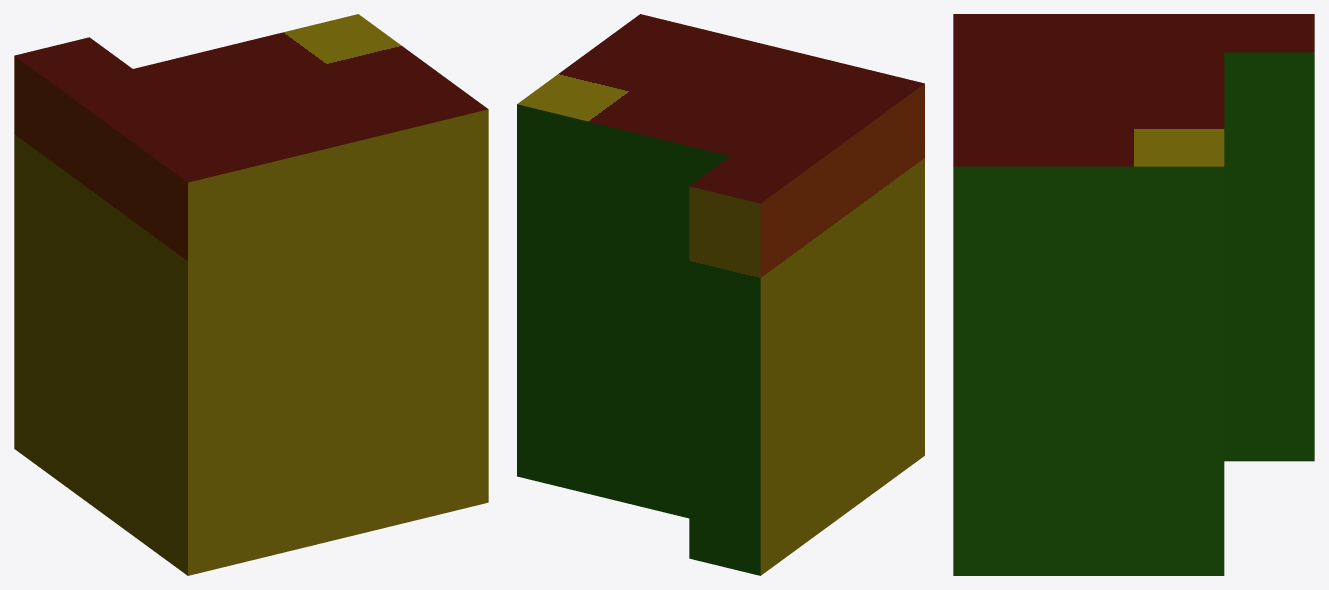
File: block_28.fbx
3 views of the same model, side by side, from view 1: azimuth 30°, elevation 25°; view 2: azimuth 150°, elevation 25°; view 3: azimuth 270°, elevation 25° (orthographic). The views are drawn at different scales.
Parts seen in each view (by area): view 1: box.013; view 2: box.013; view 3: box.013.
Part boxes in pixels (bbox=[...]): box.013: bbox=[14, 14, 488, 575]; box.013: bbox=[517, 14, 924, 575]; box.013: bbox=[953, 14, 1314, 575].
Size of the model in its own units: 400 by 500 by 400.
